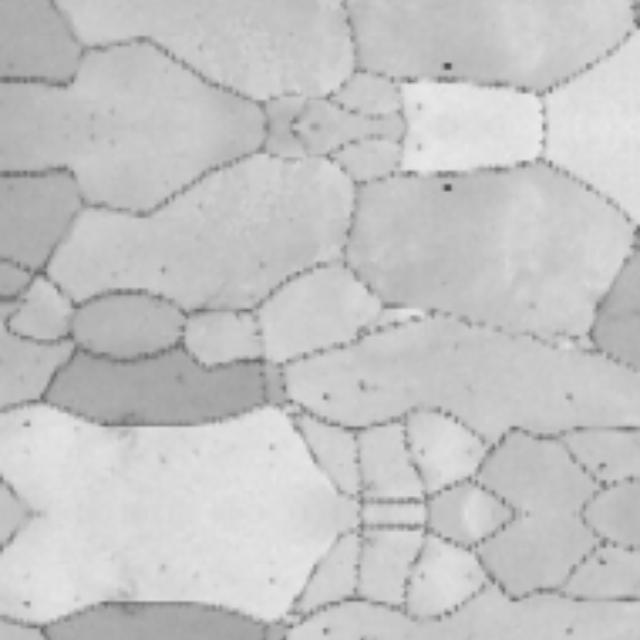good_void: (358, 377, 378, 395), (16, 417, 35, 430), (16, 597, 35, 610), (561, 389, 579, 402), (596, 459, 611, 474), (596, 553, 611, 568), (438, 180, 456, 192), (438, 60, 456, 72), (561, 625, 579, 637), (159, 261, 170, 280), (416, 445, 428, 460), (416, 567, 428, 582), (358, 632, 378, 640), (320, 389, 332, 402), (320, 625, 332, 637), (266, 439, 279, 450), (266, 577, 279, 588)
